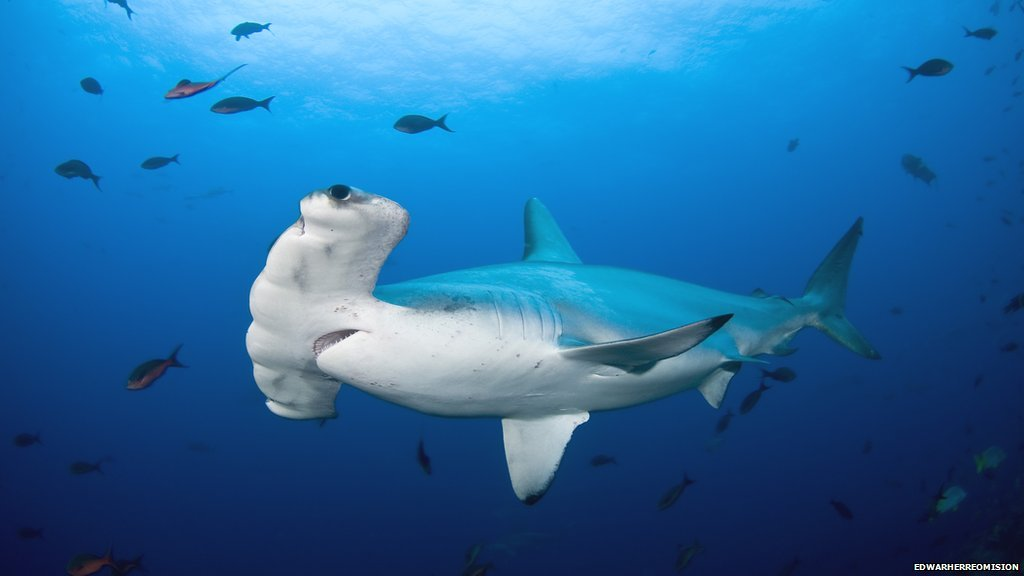Hammer: (214, 152, 928, 511)
